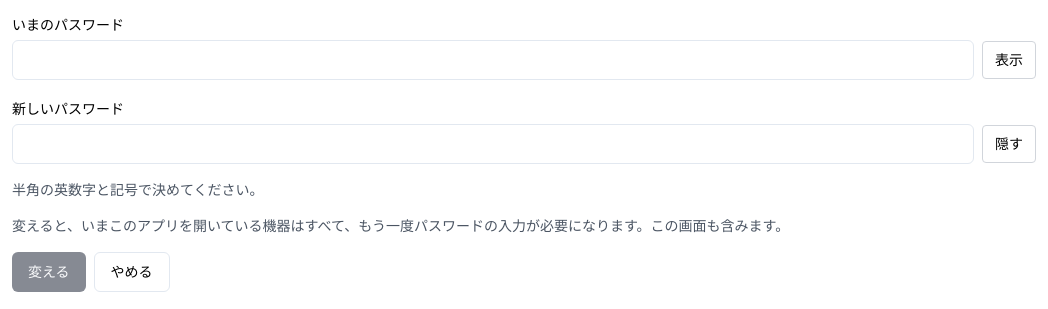
Scenario: M22-08 パスワードの検査(変更) — ★最重要ゲート 1 の画面側 › 「いまのパスワード」が下限より短くても止めない
The width and height of the screenshot is (1048, 309).
Type "ab" into the password field with test id "auth-change-password-current-input". click: [493, 60]
box: [12,40,974,80]
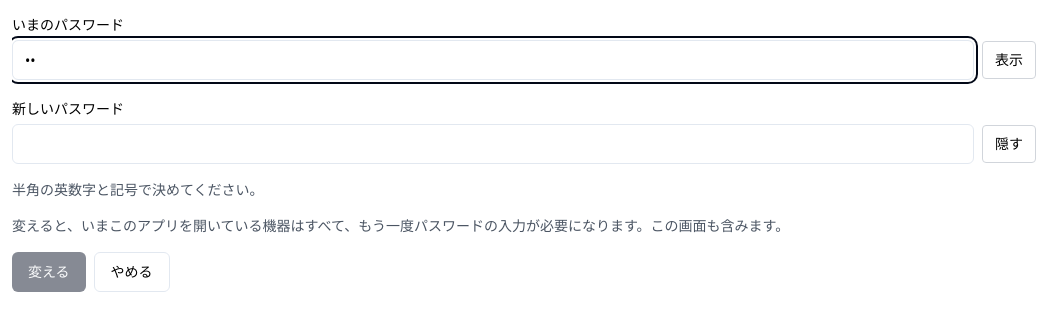
Type "new-ascii-password" into the field with test id "auth-change-password-new-input". click: [493, 144]
box: [12,124,974,164]
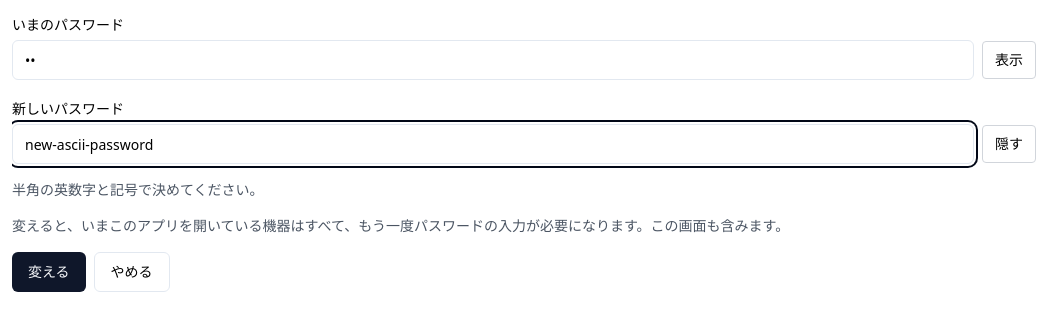
Expected: the button with test id "auth-change-password-submit" is enabled, [12,252,86,292]
